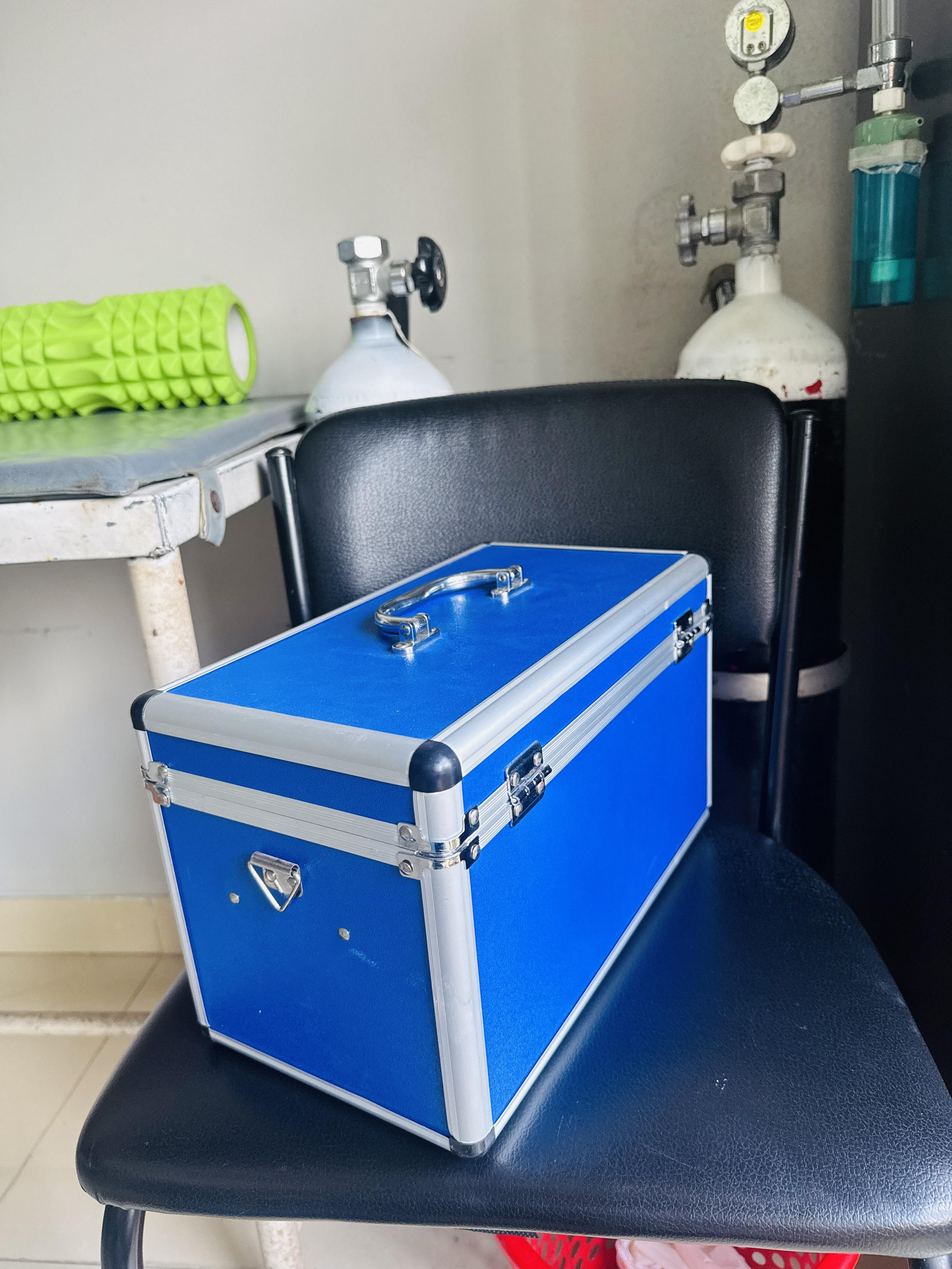FirstAidBox: (107, 516, 743, 1178)
